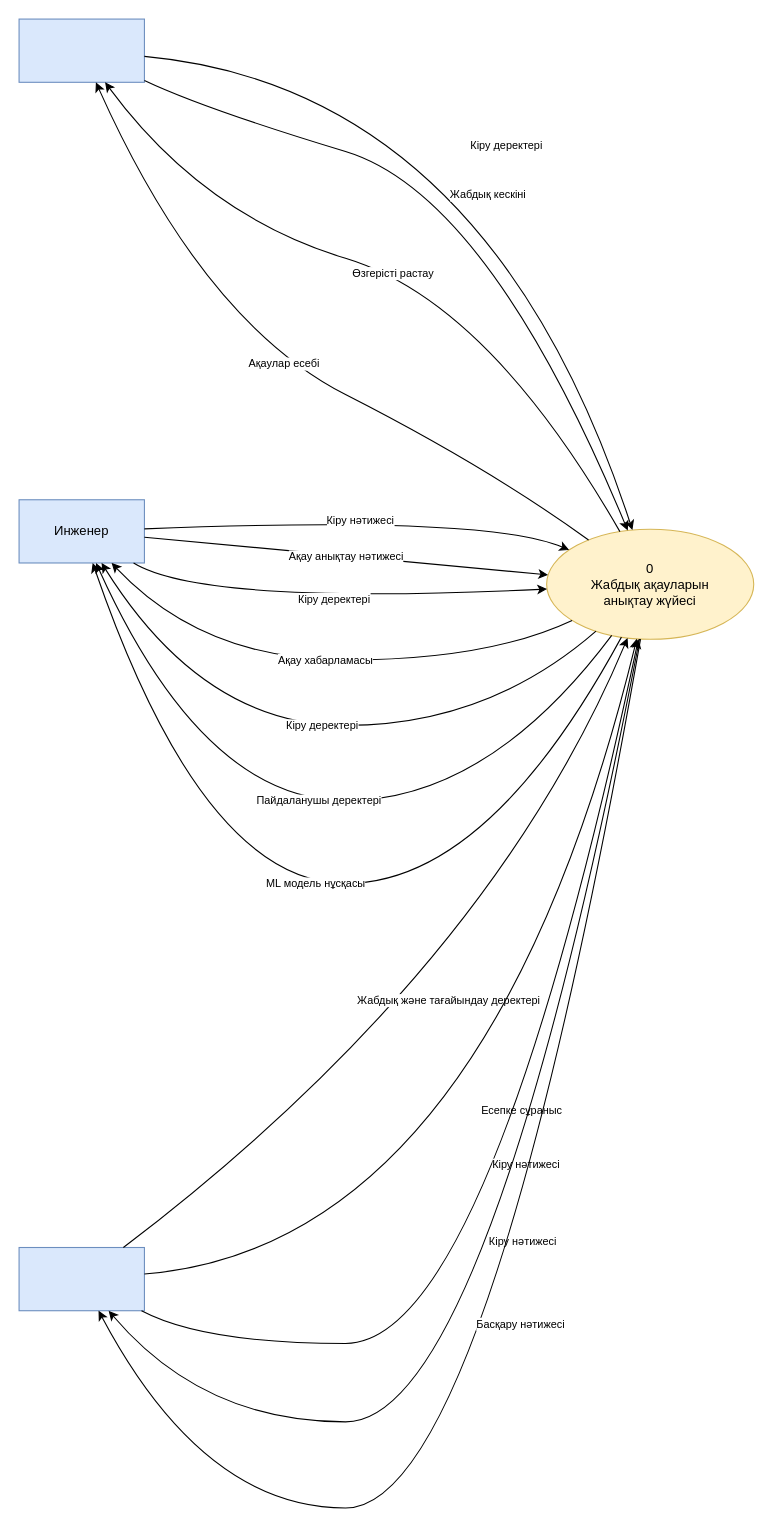
Some shapes in this 773 by 1527 pixel diagram are drawn without their labels. The centre of each missing label's shape, as x and y in pixels:
"Оператор" belongs at [81,50].
"Әкімші" belongs at [81,1278].
